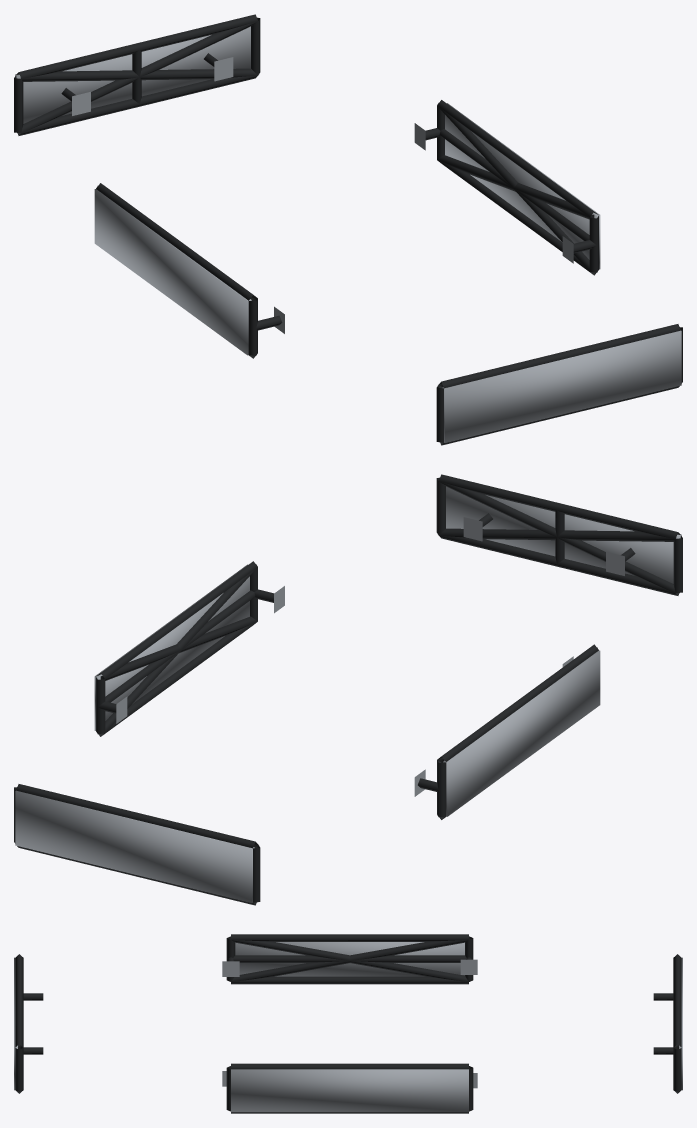
File: vorhaus_lapa_protecao.glb
3 views of the same model, one above another, from view 1: azimuth 30°, elevation 25°; view 2: azimuth 150°, elevation 25°; view 3: azimuth 270°, elevation 25° (orthographic). The views are drawn at different scales.
Visible parts, largest first — view 1: Protection_front_Level3_Details, Protection_left_Level3_Details, Protection_rear_Level1_Details, Protection_rear_Level3_Details, Protection_right_Level1_Details, Protection_rear_Level2_Details, Protection_right_Level2_Details, Protection_right_Level3_Details, Protection_front_Level1_Details, Protection_left_Level1_Details; view 2: Protection_rear_Level3_Details, Protection_left_Level3_Details, Protection_front_Level1_Details, Protection_front_Level3_Details, Protection_right_Level1_Details, Protection_front_Level2_Details, Protection_right_Level2_Details, Protection_right_Level3_Details, Protection_rear_Level1_Details, Protection_left_Level1_Details; view 3: Protection_right_Level3_Details, Protection_left_Level1_Details, Protection_left_Level2_Details, Protection_left_Level3_Details, Protection_right_Level1_Details, Protection_rear_Level1_Details, Protection_front_Level1_Details.
Boxes of the visible parts, x1,y1,x2,y2 form: Protection_front_Level3_Details: (442,330,681,442); Protection_left_Level3_Details: (94,189,251,355); Protection_rear_Level1_Details: (14,14,260,135); Protection_rear_Level3_Details: (15,26,250,123); Protection_right_Level1_Details: (414,100,598,275); Protection_rear_Level2_Details: (16,21,257,134); Protection_right_Level2_Details: (437,106,597,274); Protection_right_Level3_Details: (445,103,600,269); Protection_front_Level1_Details: (436,324,682,445); Protection_left_Level1_Details: (96,183,284,358); Protection_rear_Level3_Details: (15,790,254,902); Protection_left_Level3_Details: (443,650,600,816); Protection_front_Level1_Details: (436,474,682,595); Protection_front_Level3_Details: (446,486,681,583); Protection_right_Level1_Details: (96,561,284,736); Protection_front_Level2_Details: (439,481,680,594); Protection_right_Level2_Details: (97,568,257,736); Protection_right_Level3_Details: (94,564,249,730); Protection_rear_Level1_Details: (14,784,260,905); Protection_left_Level1_Details: (414,644,598,819); Protection_right_Level3_Details: (231,1069,468,1112); Protection_left_Level1_Details: (222,934,477,984); Protection_left_Level2_Details: (230,937,469,981); Protection_left_Level3_Details: (235,942,464,976); Protection_right_Level1_Details: (222,1063,477,1113); Protection_rear_Level1_Details: (653,954,681,1093); Protection_front_Level1_Details: (15,954,43,1093).
Size of the model in its own units: 2.04 by 0.354 by 4.3.
1 material, 1 textured.
